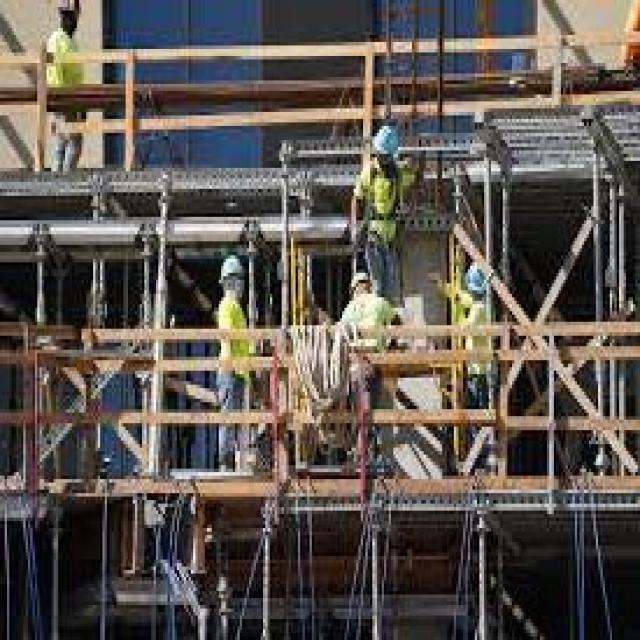Reflective-Jacket: (349, 164, 410, 259), (40, 24, 86, 98)
Safety-Helmet: (346, 168, 409, 255), (363, 115, 410, 168), (214, 248, 251, 287), (344, 262, 377, 294), (51, 0, 86, 21)
